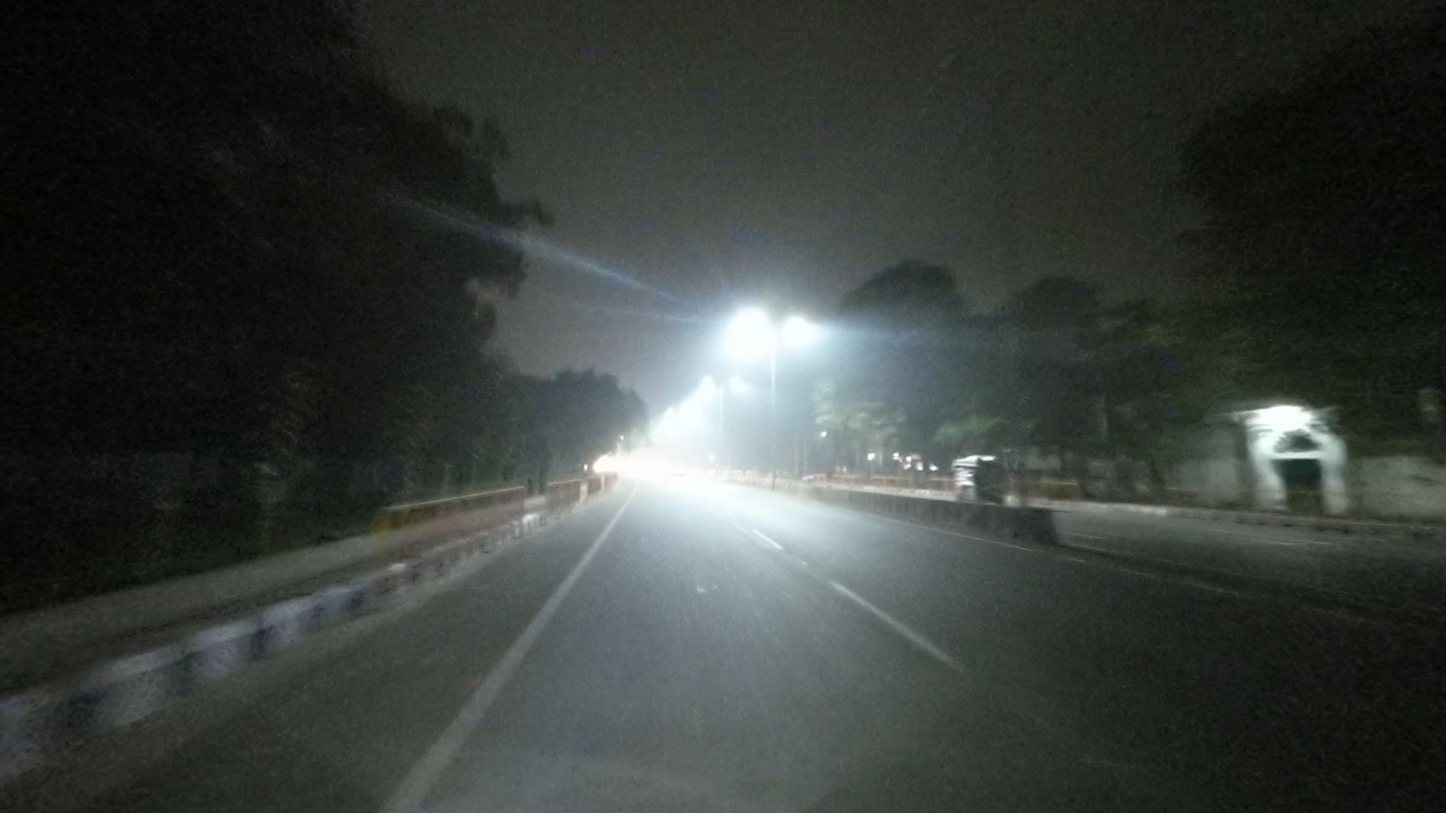streetlight: (925, 43, 992, 87), (1008, 63, 1062, 94)
